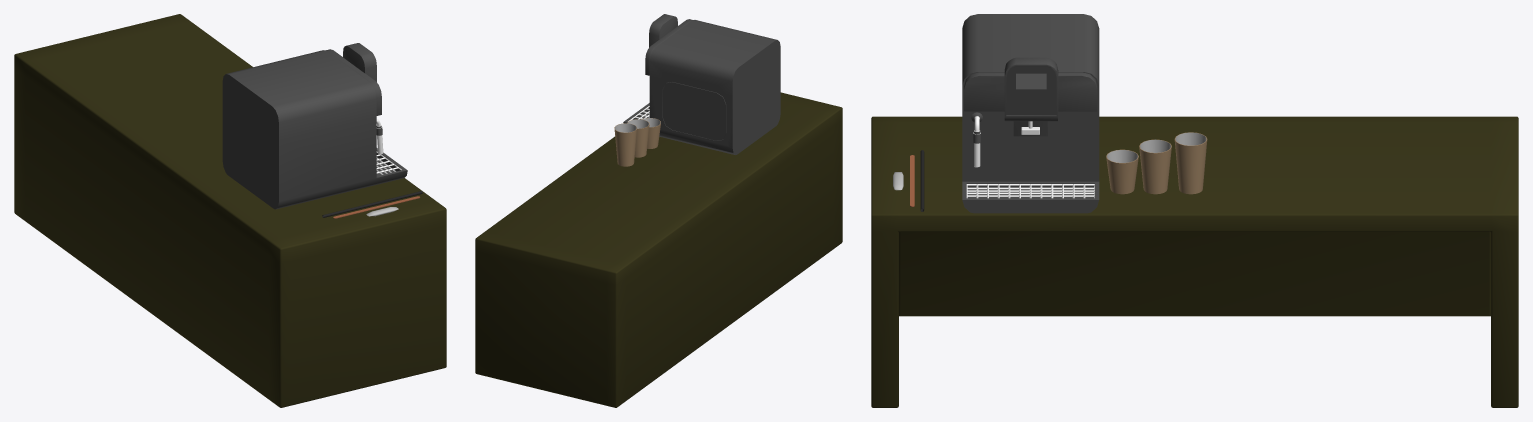
Rendered from coffee-machine.glb.
3 renders of one model, left to right at view 1: azimuth 30°, elevation 25°; view 2: azimuth 150°, elevation 25°; view 3: azimuth 270°, elevation 25°, orthographic. The views are drawn at different scales.
Visible parts, largest first — view 1: table, coffee machine, Cube.006, Cube.005; view 2: table, coffee machine, Cube.004, coffee cup big, Cube.006, Coffee cup medium, coffee cup small, Cube.005; view 3: table, coffee machine, Cube.005, Cube.006, coffee cup big, Cube.002, Coffee cup medium, coffee cup small.
Boxes of the visible parts, x1,y1,x2,y2 form: table: [14, 14, 446, 407]; coffee machine: [222, 50, 407, 209]; Cube.006: [343, 43, 376, 81]; Cube.005: [325, 49, 381, 115]; table: [475, 92, 842, 407]; coffee machine: [623, 20, 780, 154]; Cube.004: [663, 82, 726, 140]; coffee cup big: [614, 123, 636, 166]; Cube.006: [649, 14, 677, 47]; Coffee cup medium: [627, 119, 649, 157]; coffee cup small: [641, 118, 660, 148]; Cube.005: [645, 19, 692, 75]; table: [871, 116, 1518, 407]; coffee machine: [962, 14, 1099, 213]; Cube.005: [964, 72, 1097, 136]; Cube.006: [1004, 57, 1058, 121]; coffee cup big: [1174, 132, 1207, 194]; Cube.002: [966, 184, 1094, 198]; Coffee cup medium: [1139, 139, 1171, 194]; coffee cup small: [1106, 149, 1138, 194].
Bounding box in the file's own units: 1.43 × 2.27 × 3.97.
